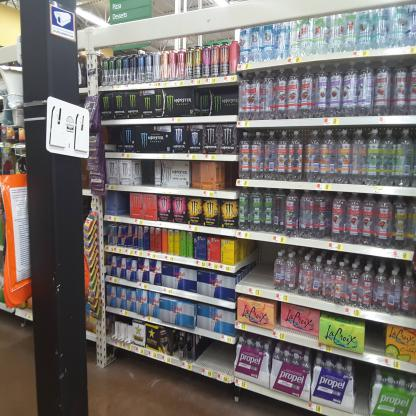Void: (200, 336, 232, 370), (354, 364, 370, 412), (256, 243, 272, 285), (366, 319, 384, 355), (142, 162, 154, 187), (104, 125, 119, 145), (223, 164, 235, 187)
